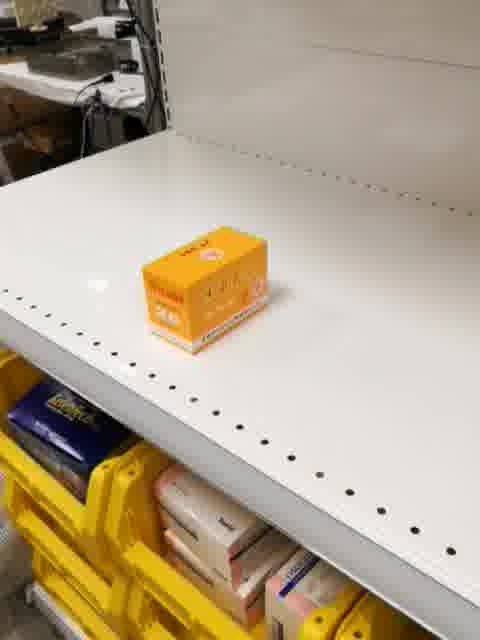jasminetea: (140, 224, 268, 358)
